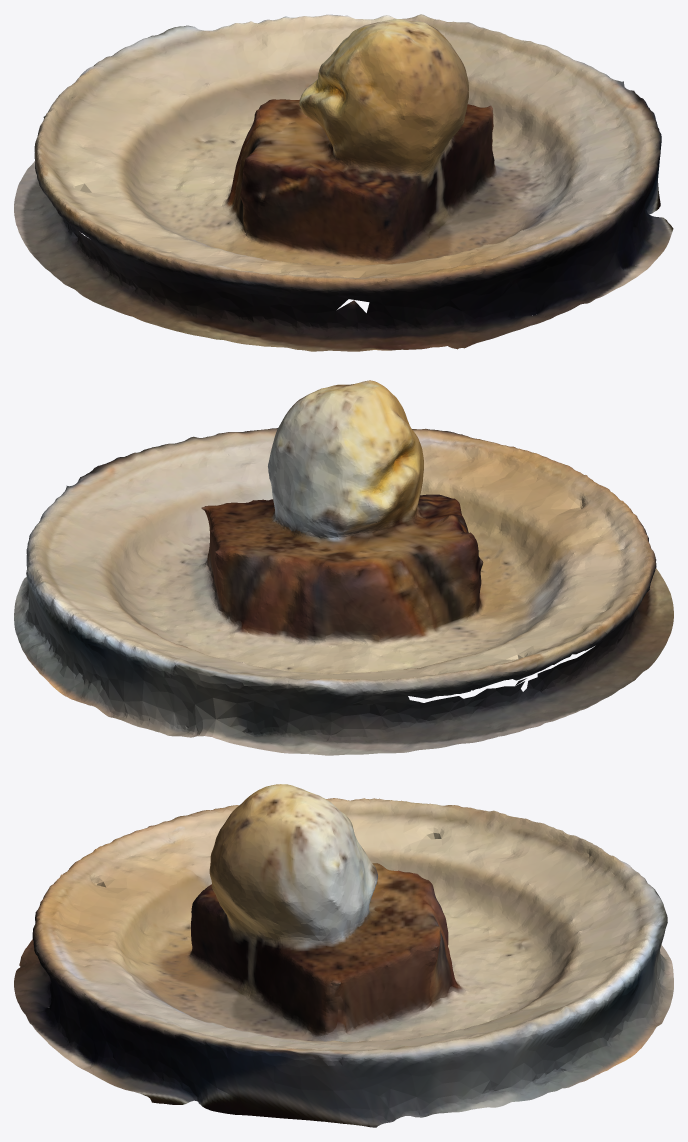
Rendered from cafe01.glb.
3 renders of one model, top to bottom at view 1: azimuth 30°, elevation 25°; view 2: azimuth 150°, elevation 25°; view 3: azimuth 270°, elevation 25°, orthographic.
Parts seen in each view (by area): view 1: mesh; view 2: mesh; view 3: mesh.
Boxes of the visible parts, bbox=[...] form: mesh: bbox=[14, 14, 673, 351]; mesh: bbox=[14, 380, 673, 755]; mesh: bbox=[14, 784, 673, 1127].
Size of the model in its own units: 0.2136 by 0.0747 by 0.2158.
Materials: 1 (1 with a texture image).
